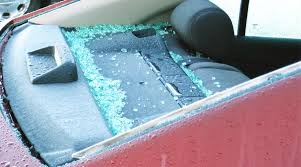Broken-glass: (31, 10, 215, 135)
